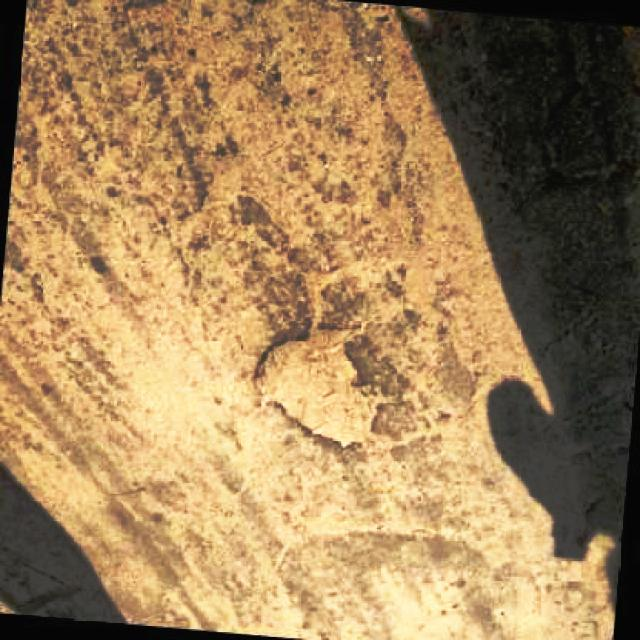pothole: (252, 326, 378, 454)
